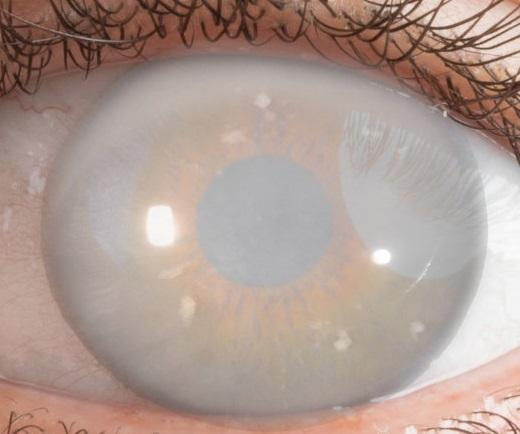eye: (46, 45, 494, 414)
